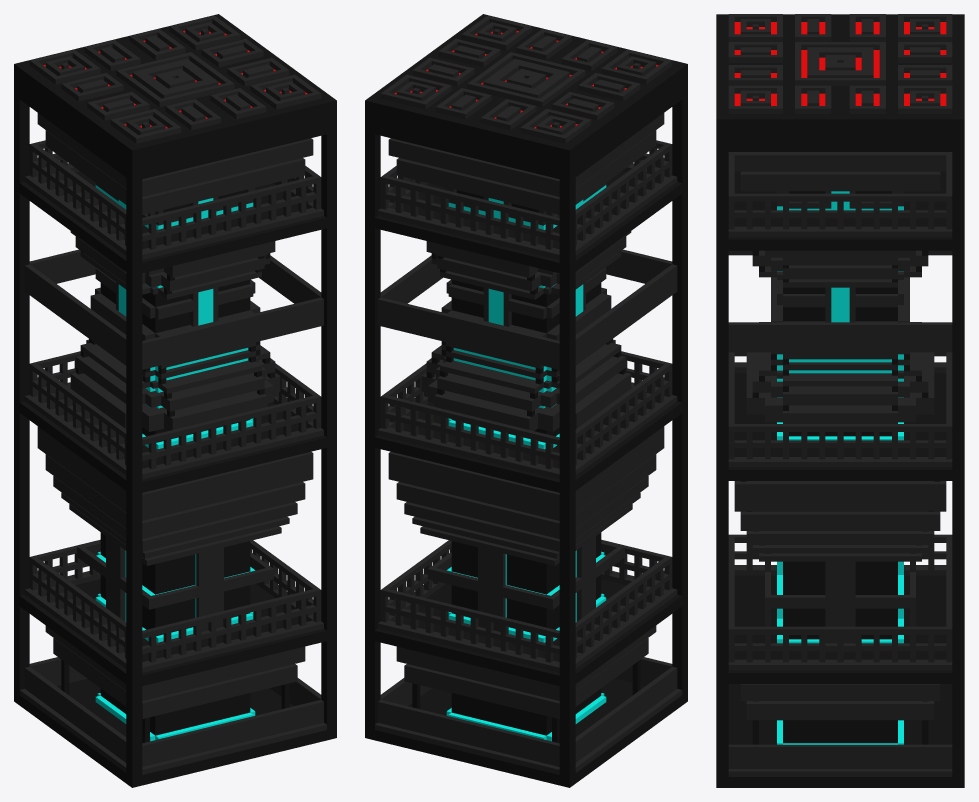
File: BossFloor1.obj
The picture shows the model from 3 angles, left to right: view 1: azimuth 30°, elevation 25°; view 2: azimuth 150°, elevation 25°; view 3: azimuth 270°, elevation 25°; orthographic projection. The views are drawn at different scales.
Size of the model in its own units: 41 by 123 by 41.
1 material, 1 textured.
